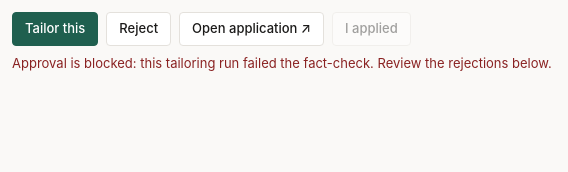
Test: Actions — tailoring is queued, not awaited › reports a queue that cannot be reached
Click the button "Tailor this" at x=55, y=29, box x1=12 y1=12 x2=98 y2=46
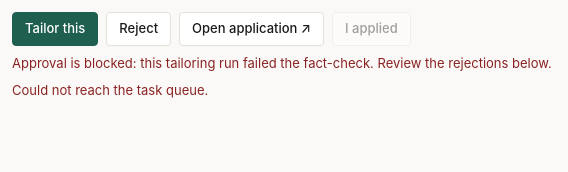
Expected: the text "Could not reach the task queue." is shown, x1=12 y1=82 x2=208 y2=98
